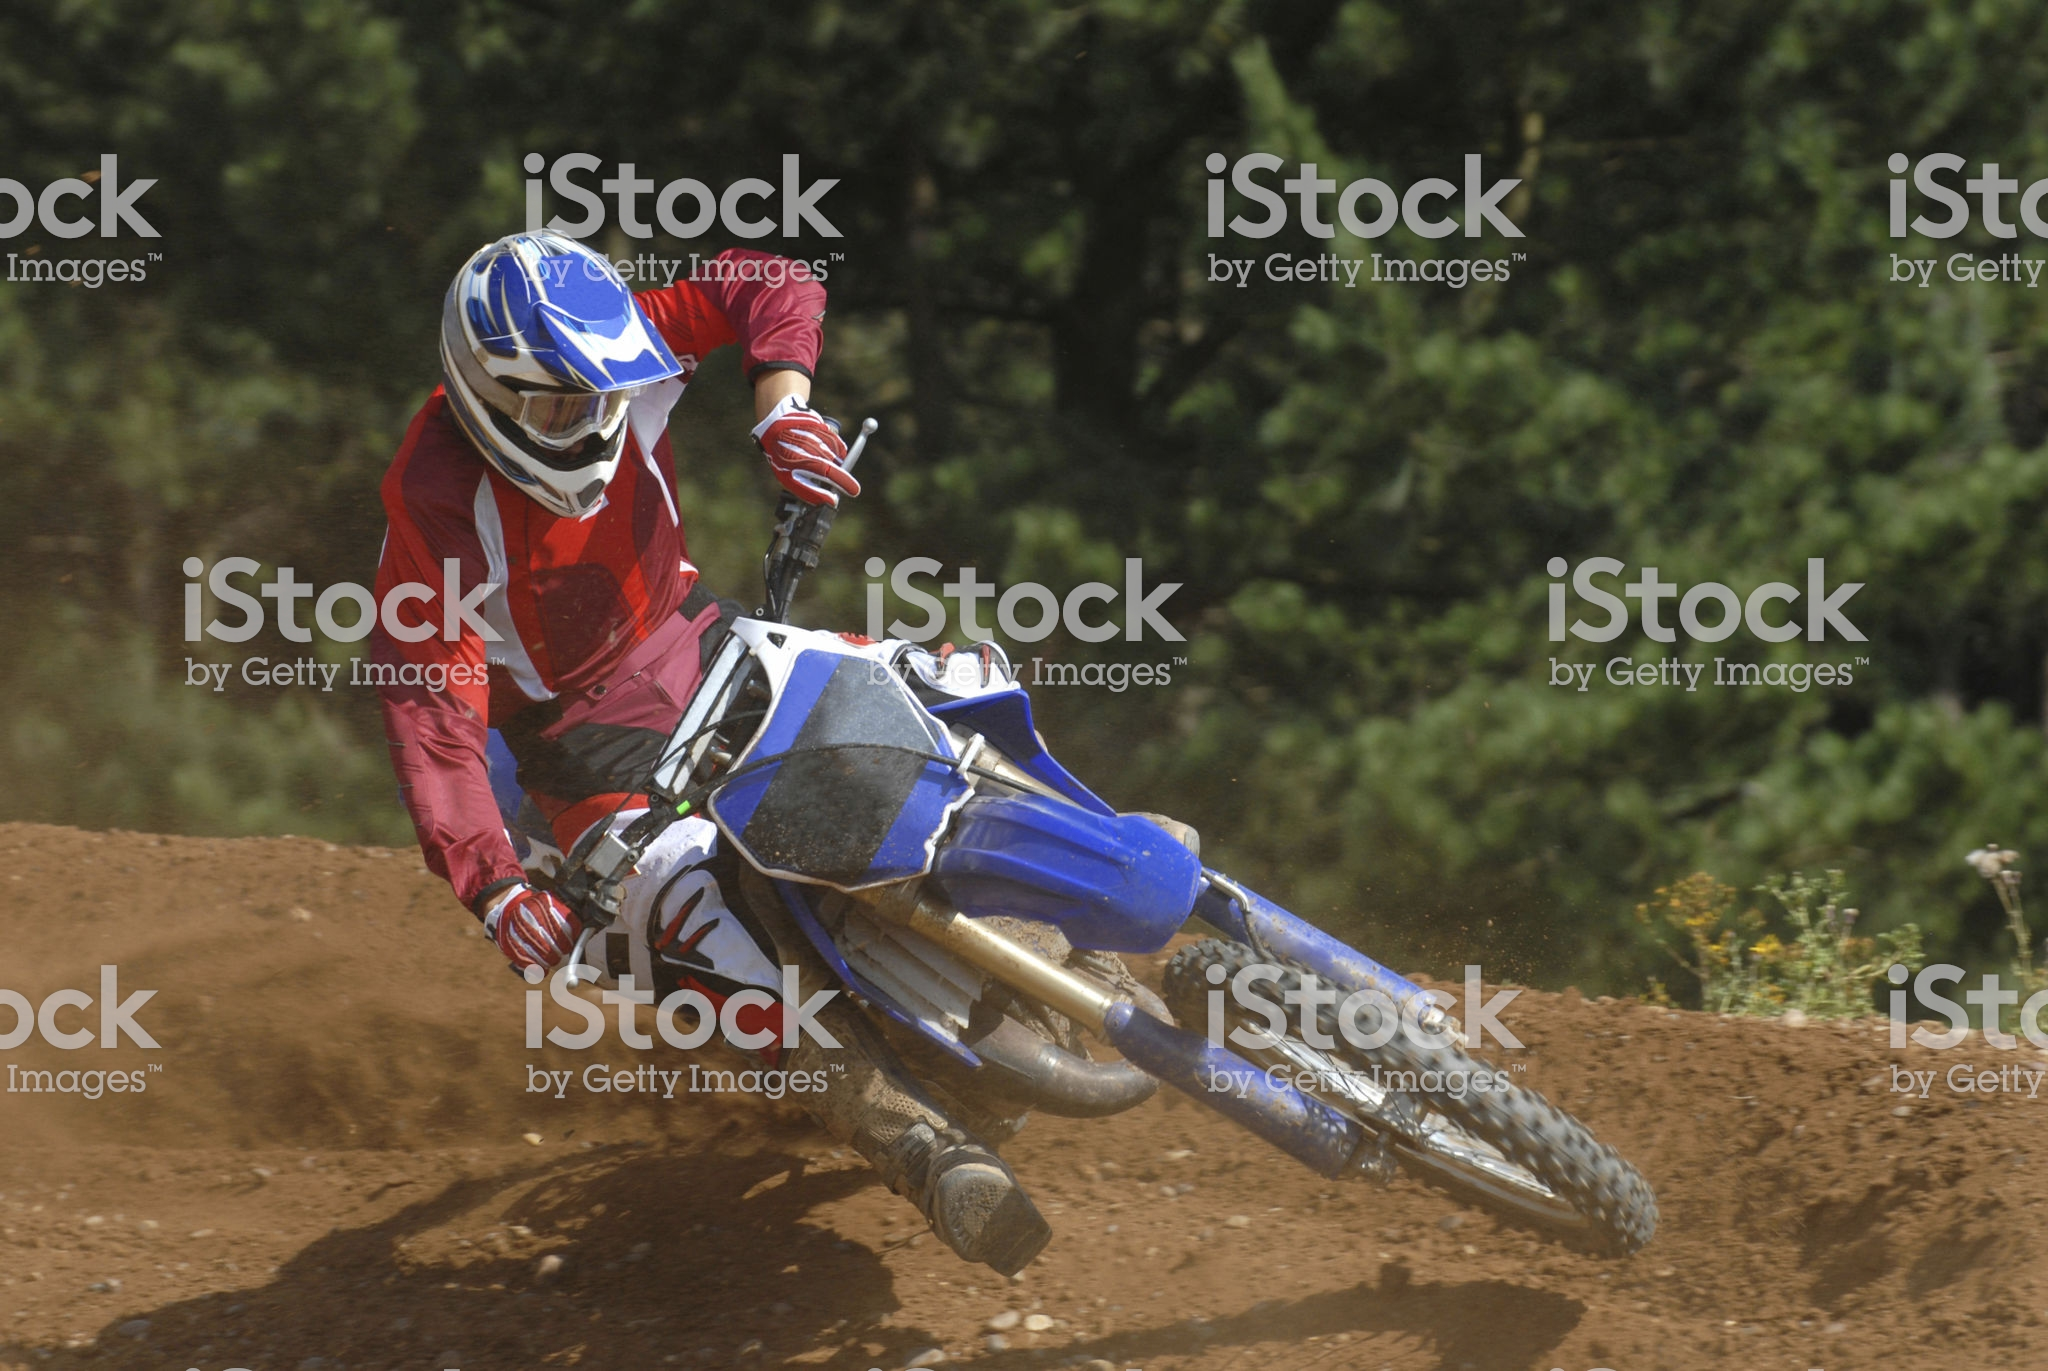helmet: (413, 231, 702, 532)
